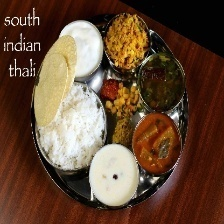rice: (32, 81, 108, 173)
